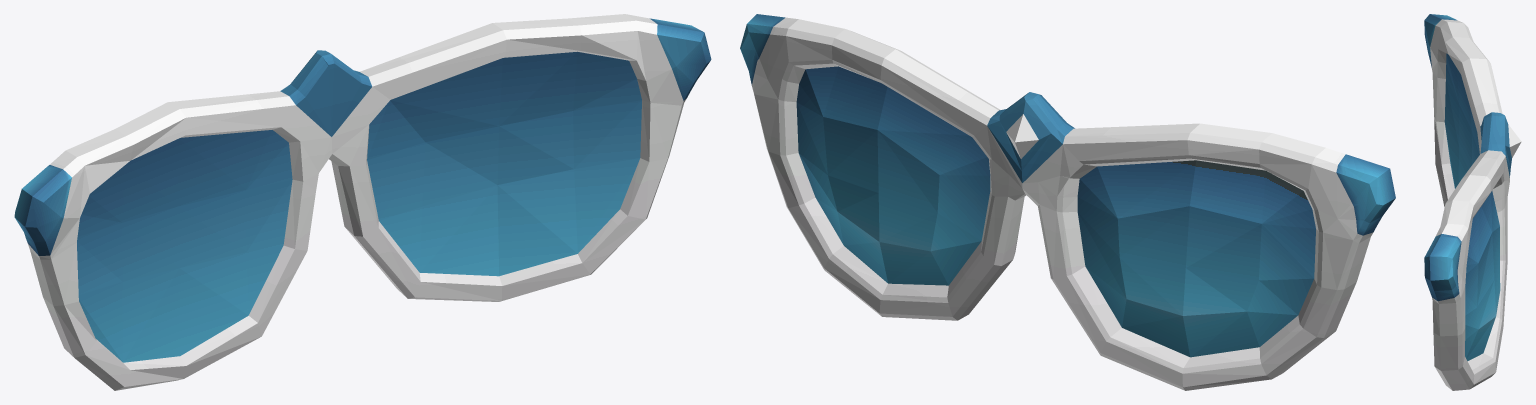
File: CharSkyKid_Mask_BlueSunglasses.glb
3 views of the same model, side by side, from view 1: azimuth 30°, elevation 25°; view 2: azimuth 150°, elevation 25°; view 3: azimuth 270°, elevation 25° (orthographic). The views are drawn at different scales.
Visible parts, largest first — view 1: CharSkyKid_Mask_BlueSunglasses; view 2: CharSkyKid_Mask_BlueSunglasses; view 3: CharSkyKid_Mask_BlueSunglasses.
Part boxes in pixels (x1=…): CharSkyKid_Mask_BlueSunglasses: x1=14, y1=14, x2=711, y2=390; CharSkyKid_Mask_BlueSunglasses: x1=740, y1=14, x2=1395, y2=390; CharSkyKid_Mask_BlueSunglasses: x1=1424, y1=14, x2=1521, y2=390.
Size of the model in its own units: 2.72 by 1.05 by 0.4517.
1 material, 1 textured.
